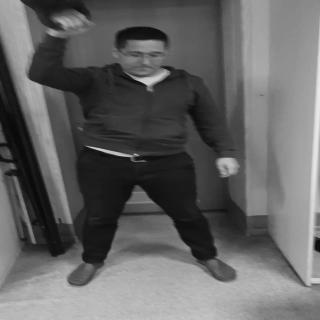girya: (21, 1, 94, 32)
